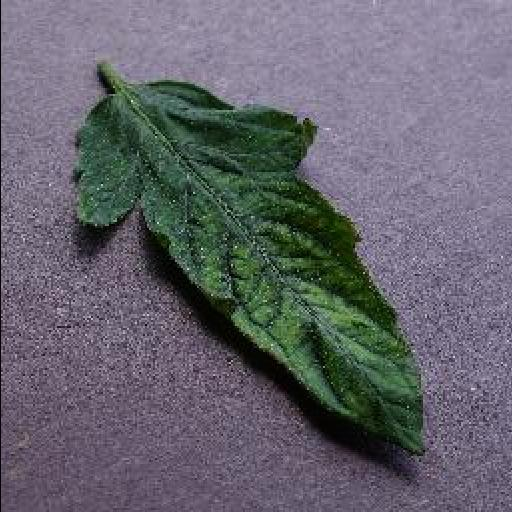disease_tomato: (70, 78, 430, 454)
